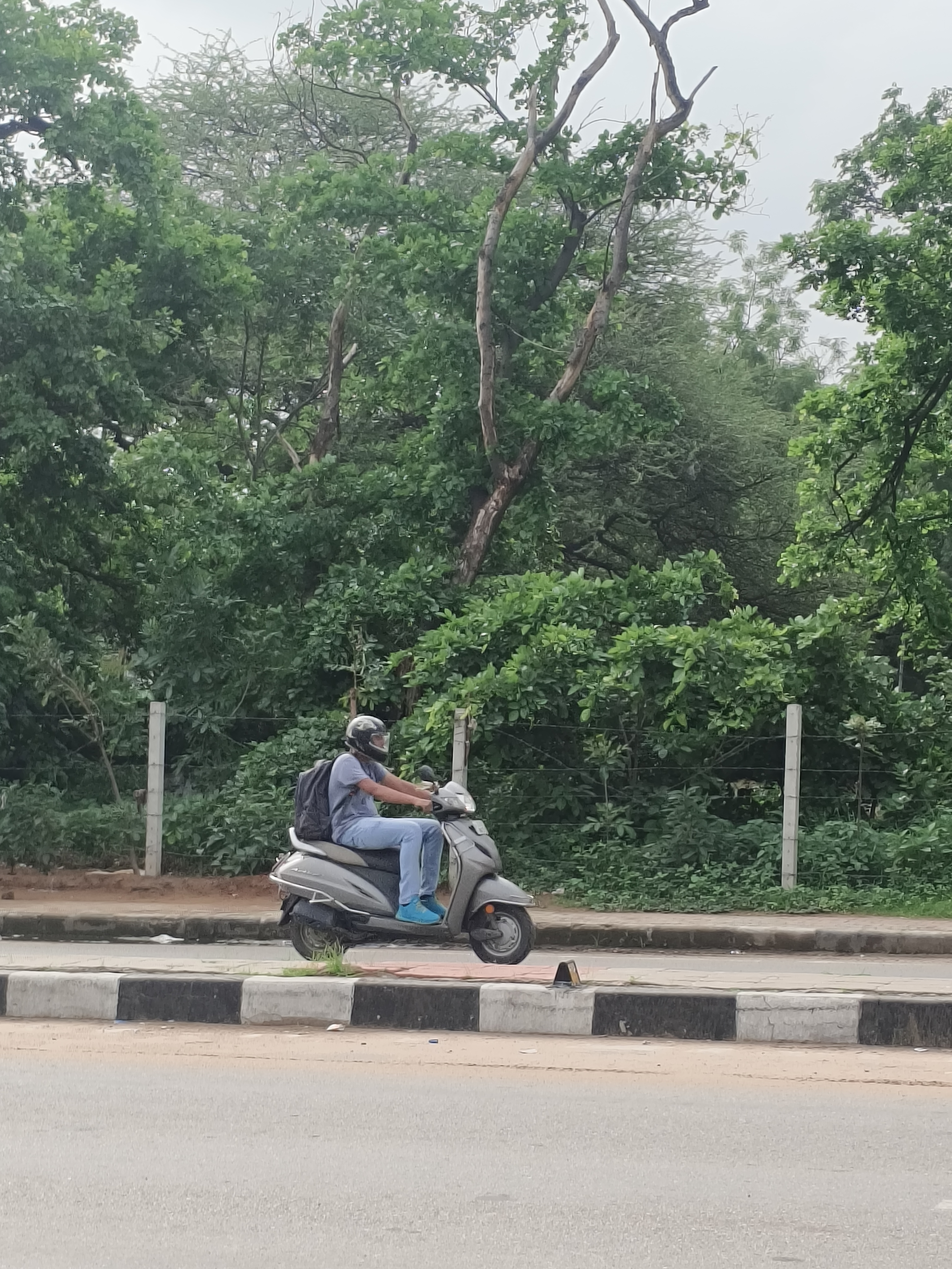BikeWithRider: (263, 709, 543, 965)
Helmet: (339, 712, 392, 767)
